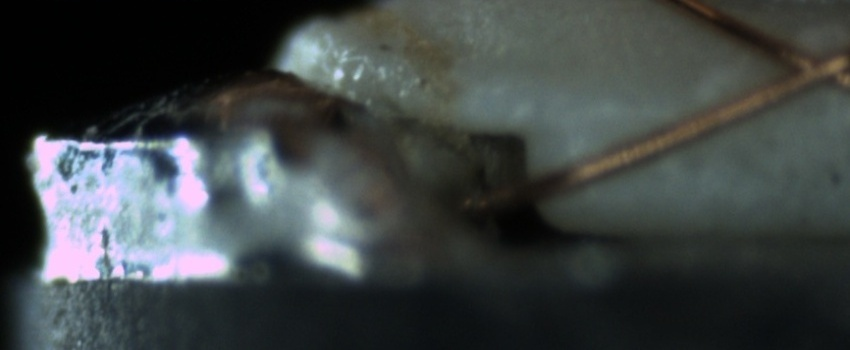CL: (758, 31, 848, 97)
DL: (565, 84, 704, 139)
